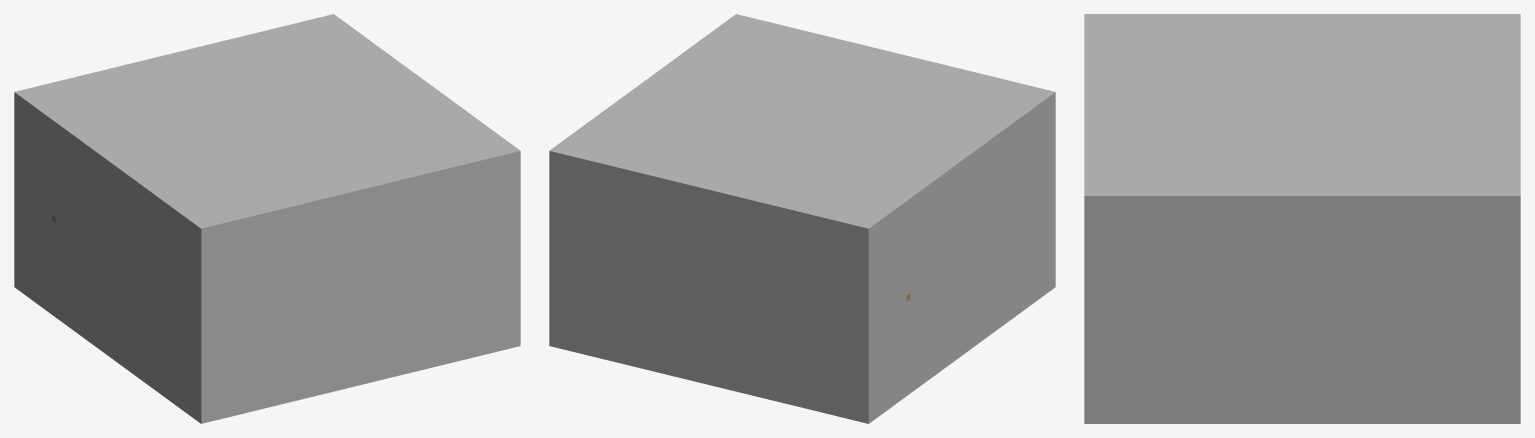
Rendered from room.glb.
3 renders of one model, left to right at view 1: azimuth 30°, elevation 25°; view 2: azimuth 150°, elevation 25°; view 3: azimuth 270°, elevation 25°, orthographic. The views are drawn at different scales.
Visible parts, largest first — view 1: Wall; view 2: Wall; view 3: Wall.
Part boxes in pixels (x1,y1,x2,y2): Wall: (14, 14, 520, 423); Wall: (549, 14, 1055, 423); Wall: (1084, 14, 1520, 423).
Bounding box in the file's own units: 3.48 × 2.03 × 3.52.
Materials: 20 (5 with a texture image).
